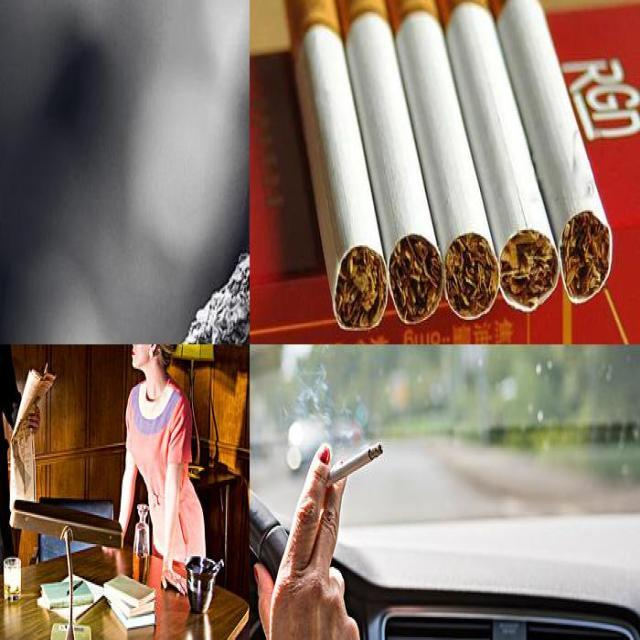smoking: (428, 0, 561, 314), (481, 0, 616, 308), (381, 0, 502, 323), (331, 0, 446, 326), (278, 0, 390, 331), (179, 85, 249, 343), (310, 441, 386, 494)
